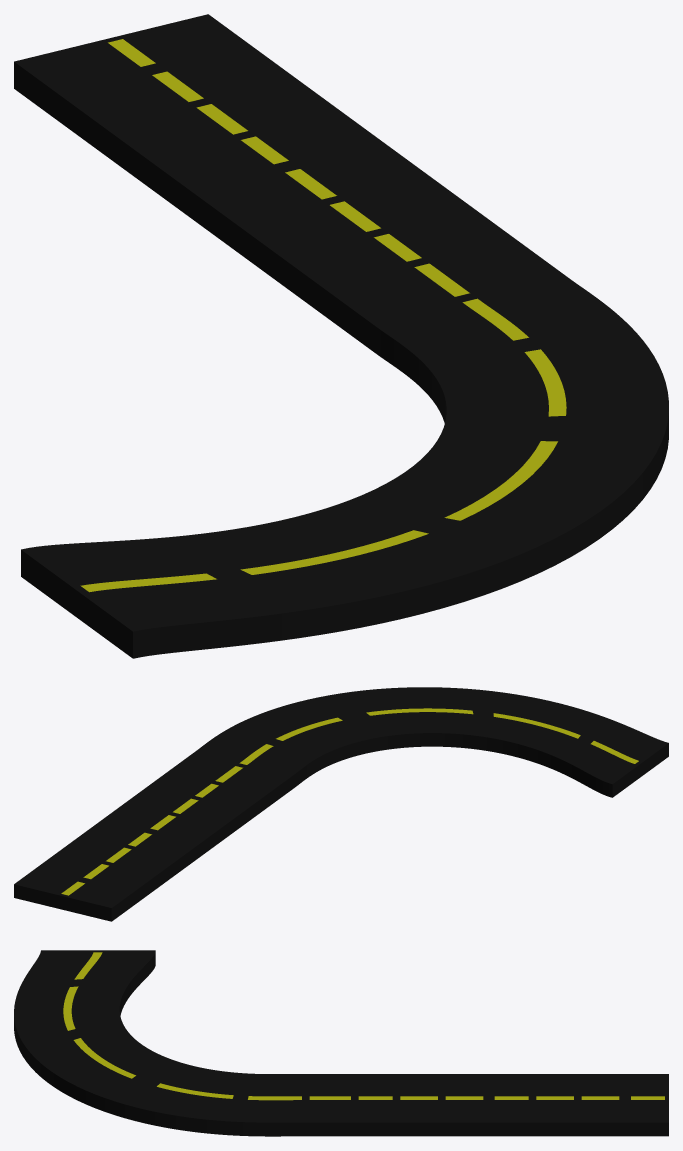
The model's file is RoadSegmentFlatTurn.fbx.
3 renders of one model, top to bottom at view 1: azimuth 30°, elevation 25°; view 2: azimuth 150°, elevation 25°; view 3: azimuth 270°, elevation 25°, orthographic. The views are drawn at different scales.
Parts seen in each view (by area): view 1: Cube.001; view 2: Cube.001; view 3: Cube.001.
Boxes of the visible parts, x1,y1,x2,y2 form: Cube.001: (14,14,668,658); Cube.001: (14,687,668,921); Cube.001: (14,950,668,1136).
Bounding box in the file's own units: 3935 × 148 × 6326.
